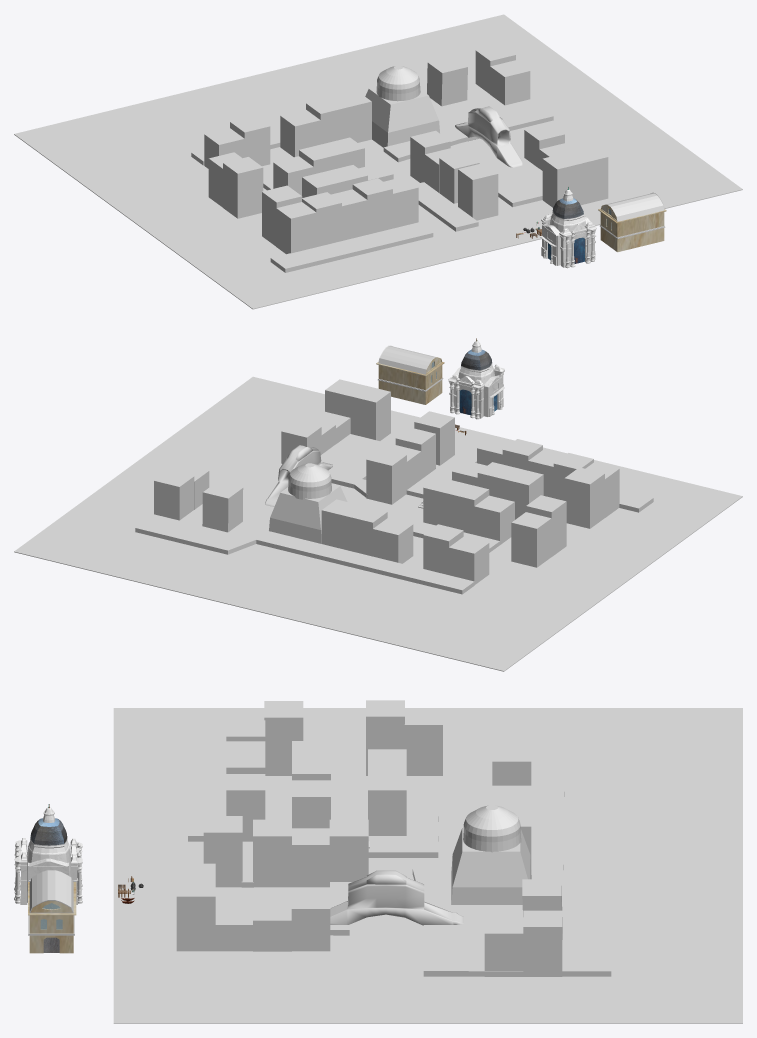
Rendered from building playfullworlds Modellen Test.fbx.
The picture shows the model from 3 angles, top to bottom: view 1: azimuth 30°, elevation 25°; view 2: azimuth 150°, elevation 25°; view 3: azimuth 270°, elevation 25°; orthographic projection. The views are drawn at different scales.
Visible parts, largest first — view 1: Cube.029, Cylinder.001, Cube.053, Cube.122, Cube.052, Cube.044, Cube.050, Cube.054, Cube.005, Cube.038, Cube.065, Cube.066 (+27 smaller); view 2: Cube.029, Cube.053, Cylinder.001, Cube.122, Cube.054, Cube.039, Cube.048, Cube.065, Cube.043, Cube.066, Cube.060, Cube.058 (+28 smaller); view 3: Cube.029, Cube.053, Cylinder.001, Cube.005, Cube.122, Cube.052, Cube.064, Cube.051, Cube.050, Cube.043, Cube.039, Cube.060 (+26 smaller).
Boxes of the visible parts, left/top/right/bottom form: Cube.029: left=14, top=14, right=742, bottom=309; Cylinder.001: left=365, top=65, right=439, bottom=147; Cube.053: left=191, top=65, right=553, bottom=165; Cube.122: left=598, top=192, right=666, bottom=252; Cube.052: left=270, top=222, right=433, bottom=272; Cube.044: left=223, top=157, right=263, bottom=218; Cube.050: left=458, top=163, right=498, bottom=220; Cube.054: left=479, top=152, right=542, bottom=207; Cube.005: left=455, top=106, right=522, bottom=167; Cube.038: left=276, top=202, right=316, bottom=254; Cube.065: left=542, top=152, right=582, bottom=207; Cube.066: left=427, top=56, right=467, bottom=106; Cube.029: left=14, top=376, right=742, bottom=671; Cube.053: left=135, top=476, right=474, bottom=594; Cylinder.001: left=269, top=463, right=347, bottom=543; Cube.122: left=376, top=345, right=444, bottom=404; Cube.054: left=320, top=434, right=395, bottom=498; Cube.039: left=564, top=467, right=604, bottom=528; Cube.048: left=366, top=449, right=406, bottom=504; Cube.065: left=350, top=385, right=390, bottom=440; Cube.043: left=511, top=512, right=551, bottom=567; Cube.066: left=202, top=481, right=243, bottom=532; Cube.060: left=154, top=470, right=194, bottom=520; Cube.058: left=449, top=536, right=489, bottom=584; Cube.029: left=113, top=708, right=742, bottom=1023; Cube.053: left=412, top=772, right=611, bottom=976; Cylinder.001: left=451, top=805, right=531, bottom=904; Cube.005: left=330, top=870, right=463, bottom=925; Cube.122: left=28, top=870, right=76, bottom=953; Cube.052: left=188, top=741, right=226, bottom=841; Cube.064: left=176, top=880, right=215, bottom=951; Cube.051: left=253, top=819, right=291, bottom=887; Cube.050: left=203, top=816, right=242, bottom=887; Cube.043: left=404, top=708, right=442, bottom=775; Cube.039: left=264, top=701, right=303, bottom=775; Cube.060: left=523, top=910, right=562, bottom=976.
Bounding box in the file's own units: 63100 × 8833 × 61748.
